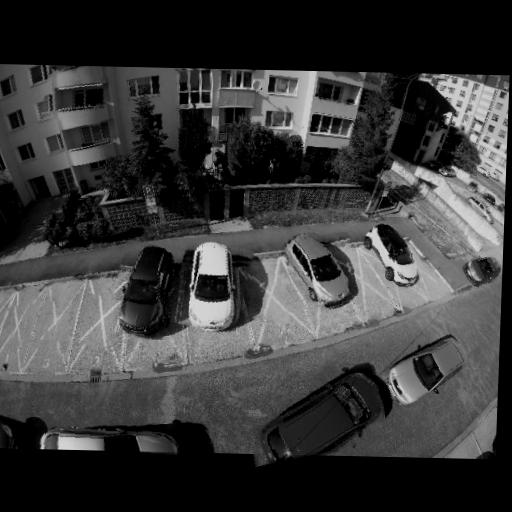busy: (241, 365, 388, 463), (173, 240, 251, 333), (109, 240, 180, 340), (28, 420, 214, 455), (284, 232, 357, 308), (389, 335, 468, 402), (368, 223, 427, 288), (42, 71, 108, 126), (462, 252, 500, 286), (0, 412, 26, 449)
free: (80, 295, 120, 350), (249, 273, 291, 322), (39, 302, 75, 354), (8, 304, 42, 347), (347, 263, 377, 296)
